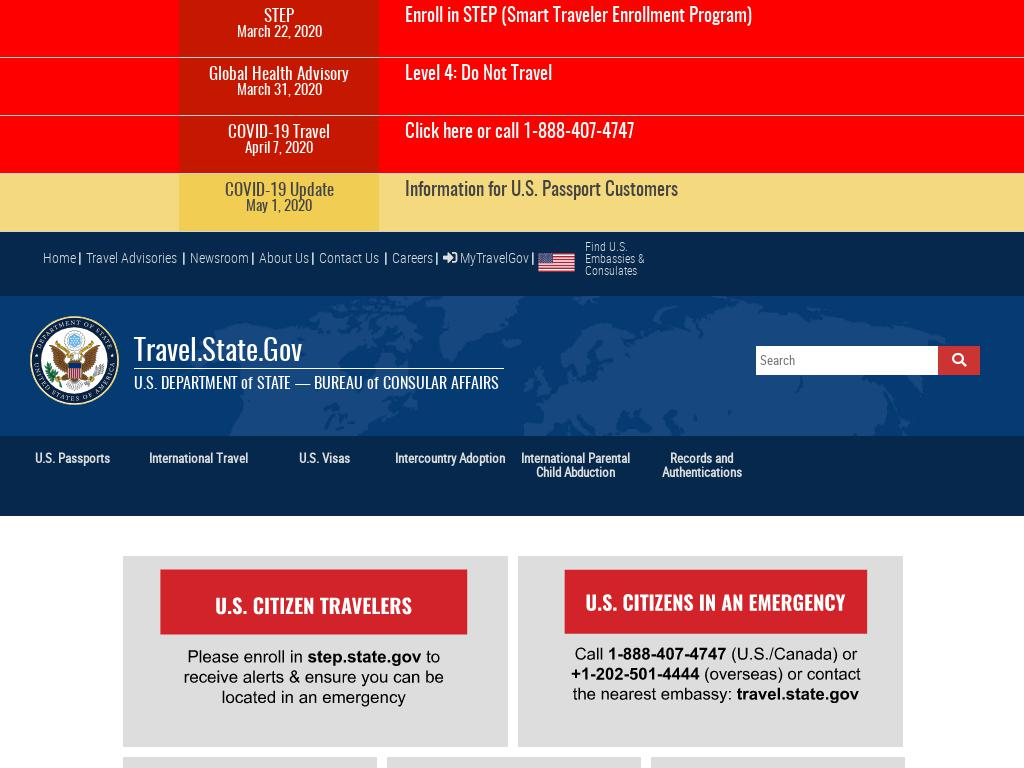button: (139, 448, 255, 524), (265, 448, 381, 524), (391, 448, 507, 524), (517, 448, 633, 524), (14, 448, 129, 524), (643, 448, 758, 524), (527, 315, 528, 316), (527, 330, 528, 331), (729, 545, 730, 546), (927, 545, 928, 546)
field: (755, 345, 938, 375)
heading: (404, 5, 771, 29), (404, 63, 771, 87), (404, 121, 771, 145), (404, 179, 771, 203), (140, 450, 256, 511), (266, 450, 382, 511), (392, 450, 508, 511), (518, 450, 634, 511), (15, 450, 130, 511), (644, 450, 759, 511), (179, 25, 379, 44), (179, 83, 379, 102), (179, 141, 379, 160), (179, 199, 379, 218), (179, 9, 379, 25), (179, 67, 379, 83), (179, 125, 379, 141), (179, 183, 379, 199)
image: (122, 555, 508, 726), (517, 555, 903, 726), (29, 315, 119, 405), (538, 253, 575, 282), (945, 349, 972, 371)
link: (86, 248, 177, 268), (319, 248, 382, 268), (190, 248, 249, 268), (392, 248, 433, 268), (43, 248, 76, 268)
text: (133, 367, 504, 396), (133, 340, 528, 365), (585, 241, 660, 278), (457, 248, 529, 268), (259, 248, 309, 268), (78, 248, 81, 268), (182, 248, 185, 268), (251, 248, 254, 268), (311, 248, 314, 268), (384, 248, 387, 268), (435, 248, 438, 268), (531, 248, 534, 268)
